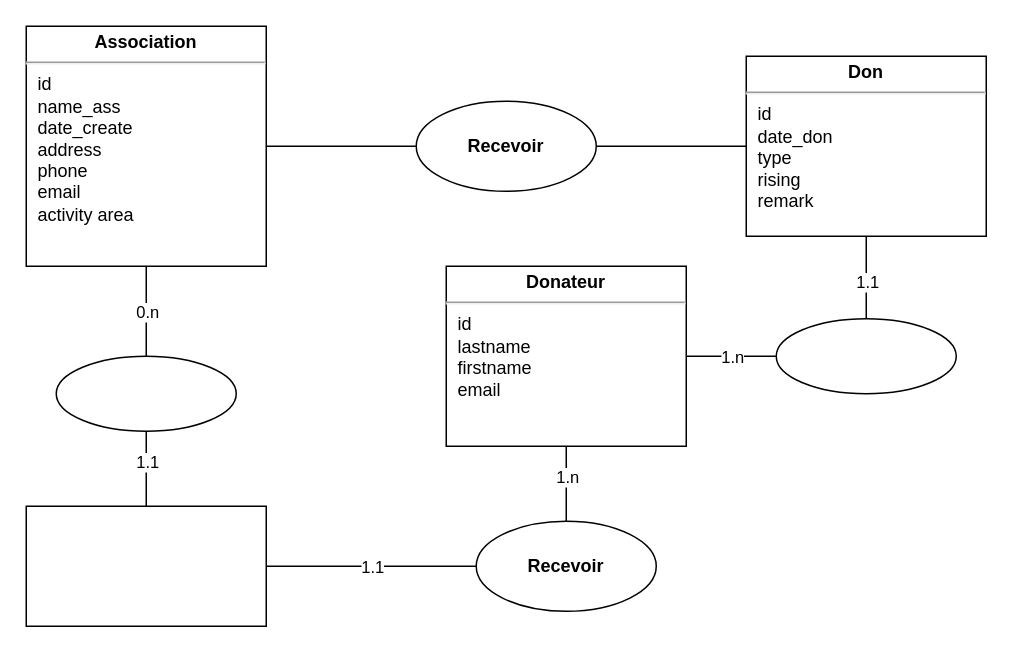
This 1013x653 diagram has some shape labels left out. The centre of each missing label's shape, as x and y in pixels:
"Donner" belongs at point 865,355.
"Envoyer" belongs at point 145,393.
"Reçu id date_receipt" belongs at point 145,565.
